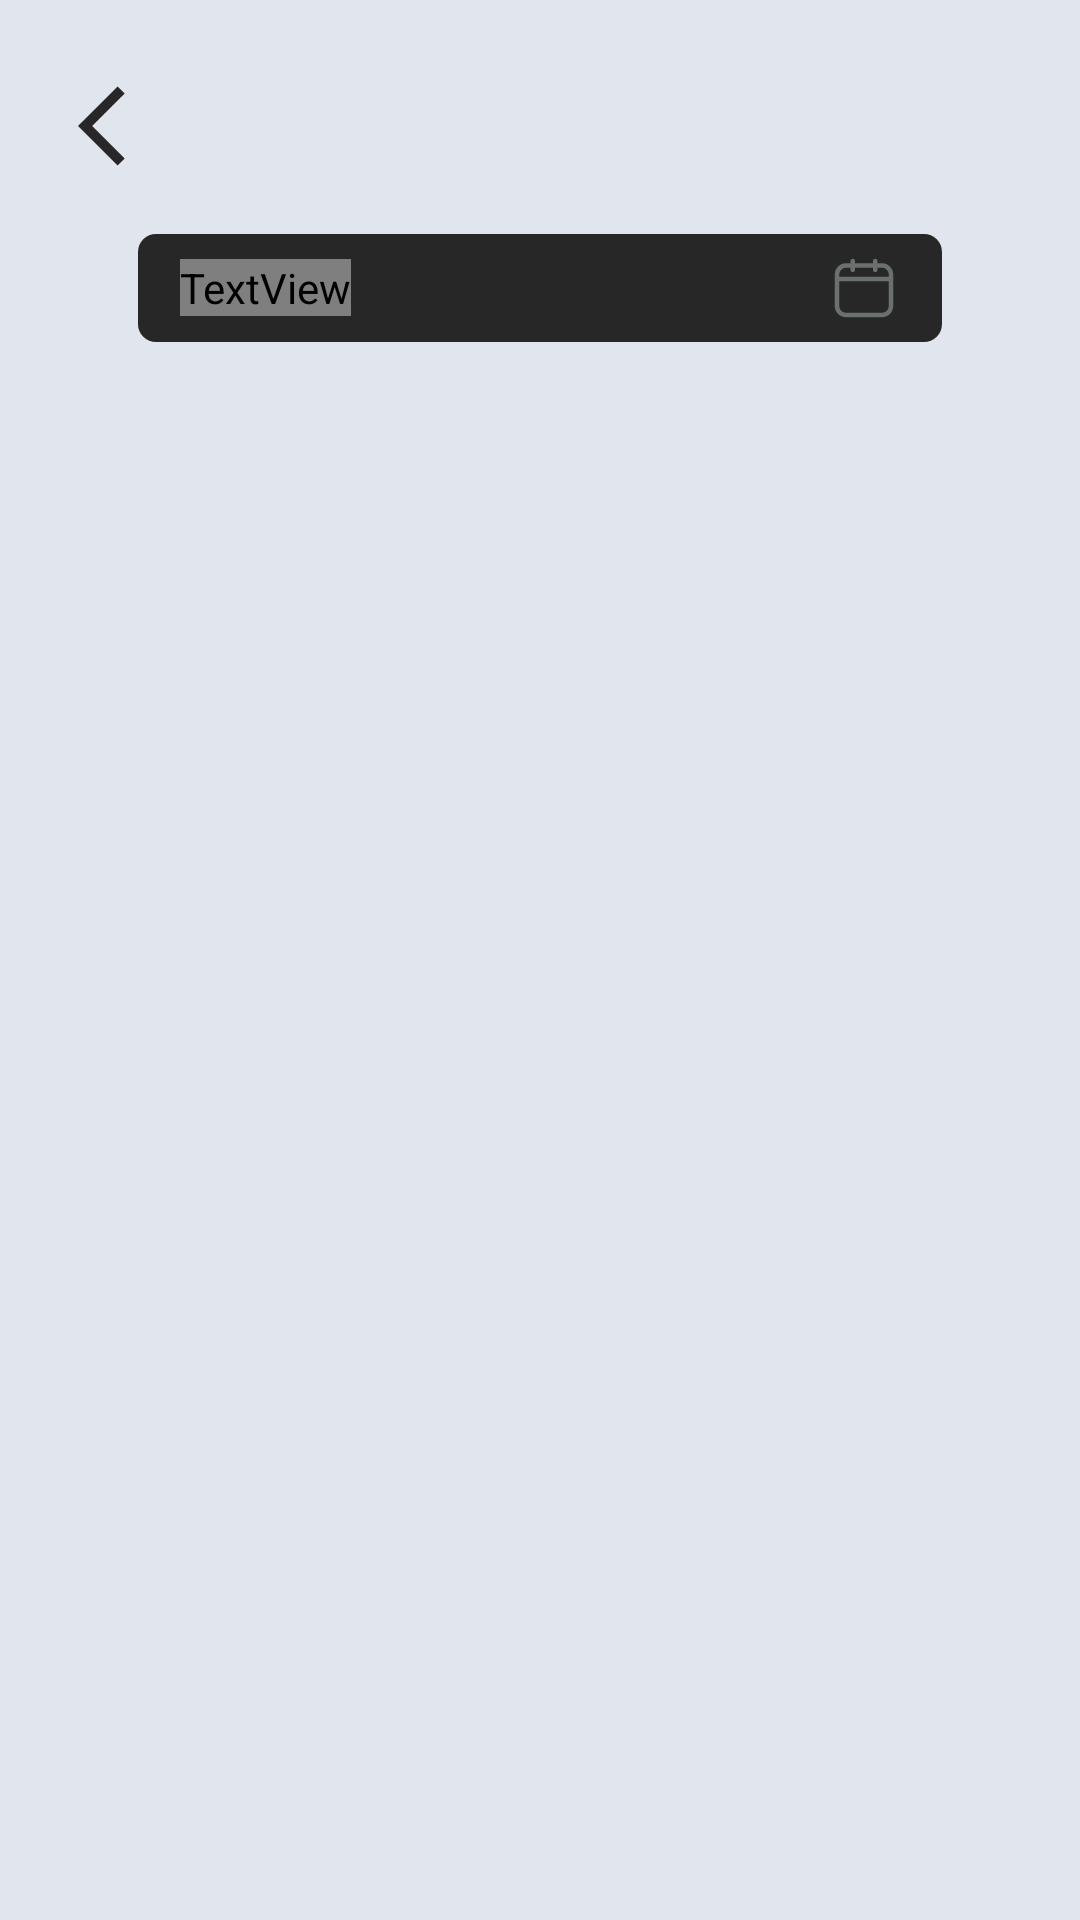

Screen size 1080px x 1920px. Icon name, then its box in pixels as (x1, y1, x2, y2):
calendar: (835, 259, 893, 317)
left arrow: (78, 86, 125, 166)
